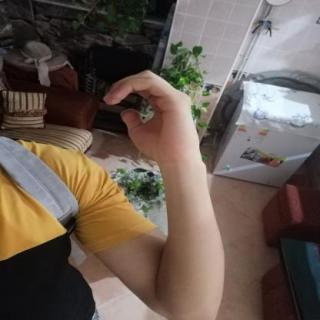JEEM: (90, 63, 215, 165)
